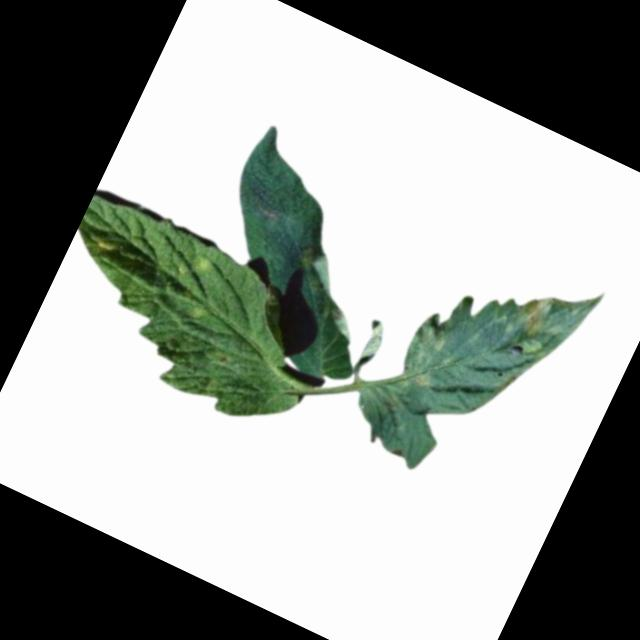Leaf_Mold: (279, 246, 378, 340), (392, 311, 462, 394), (507, 286, 570, 359), (170, 244, 217, 288), (91, 230, 125, 264)
